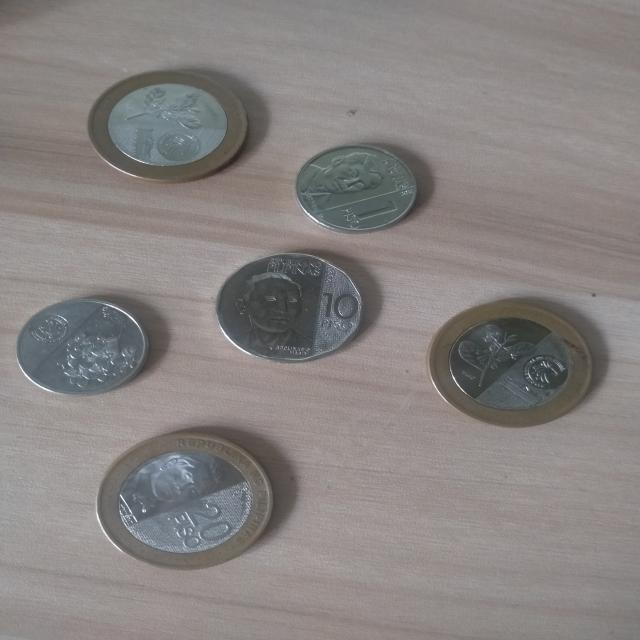10_New_Front: (313, 282, 365, 334)
1_New_Front: (336, 194, 403, 228)
20_New_Back: (449, 317, 544, 393)
20_New_Front: (161, 495, 247, 556)
